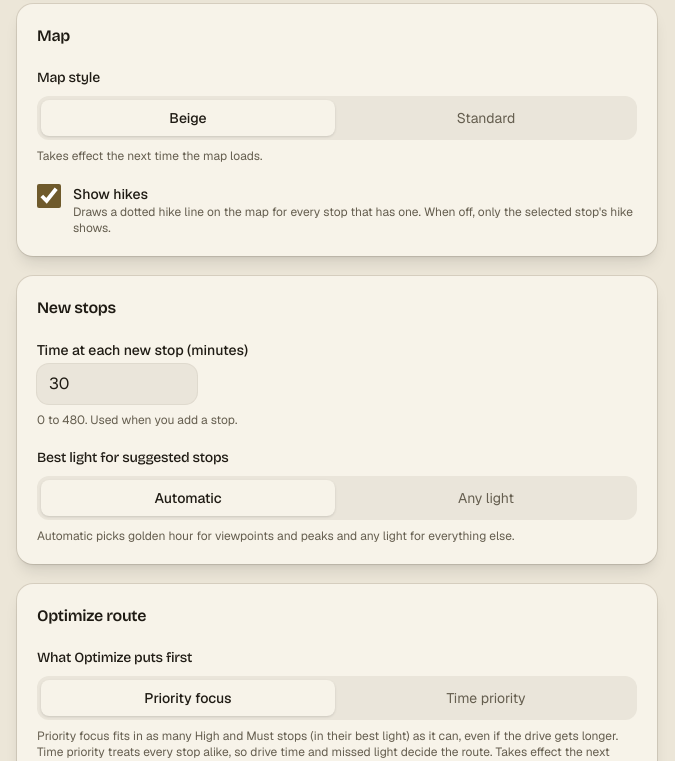
Test case: SettingsView › clamps the default dwell minutes and snaps back on blur
(page scrolled)
Replace the text in the number field labelled "Time at each new stop (minutes)" with "9999" at {"x": 117, "y": 384}, box [37,364,197,404]
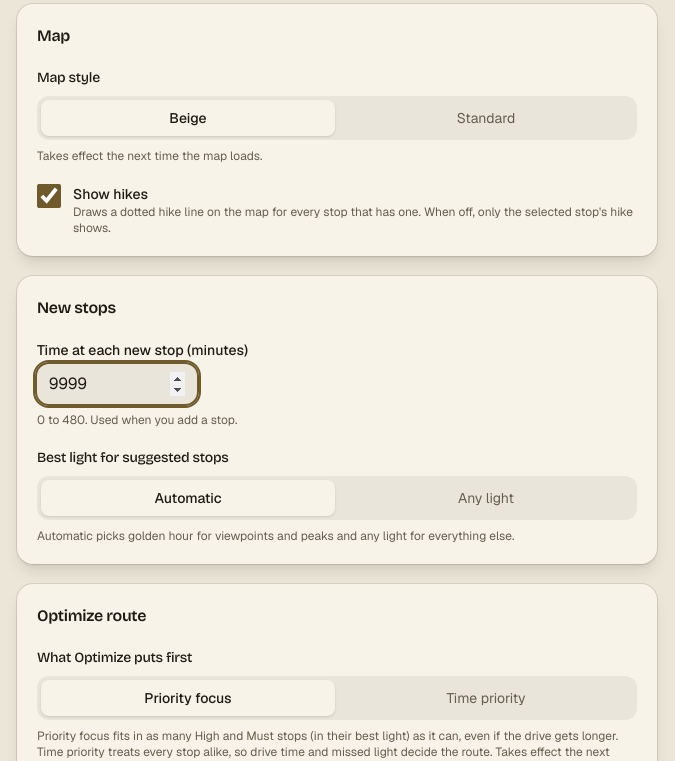
Press Tab
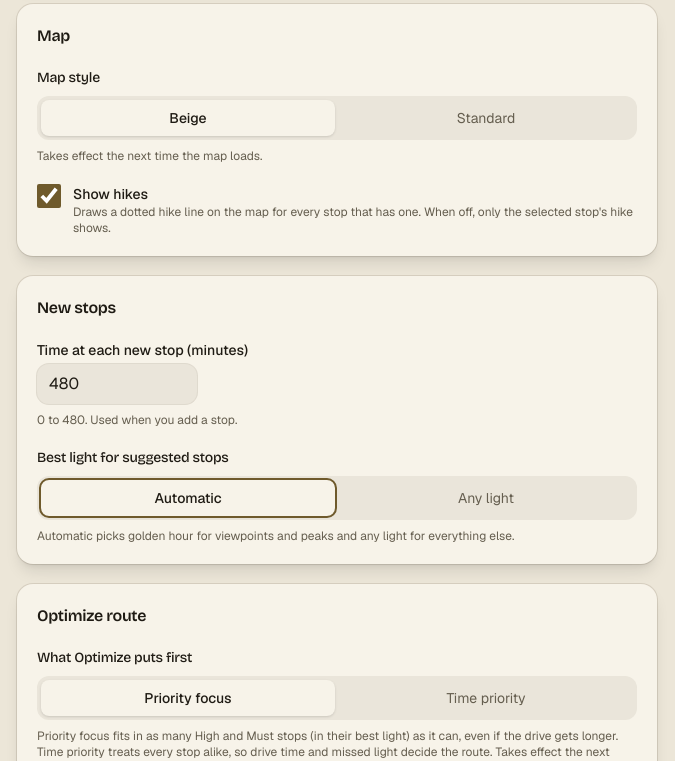
Expected: the number field labelled "Time at each new stop (minutes)" holds "480", [37,364,197,404]
